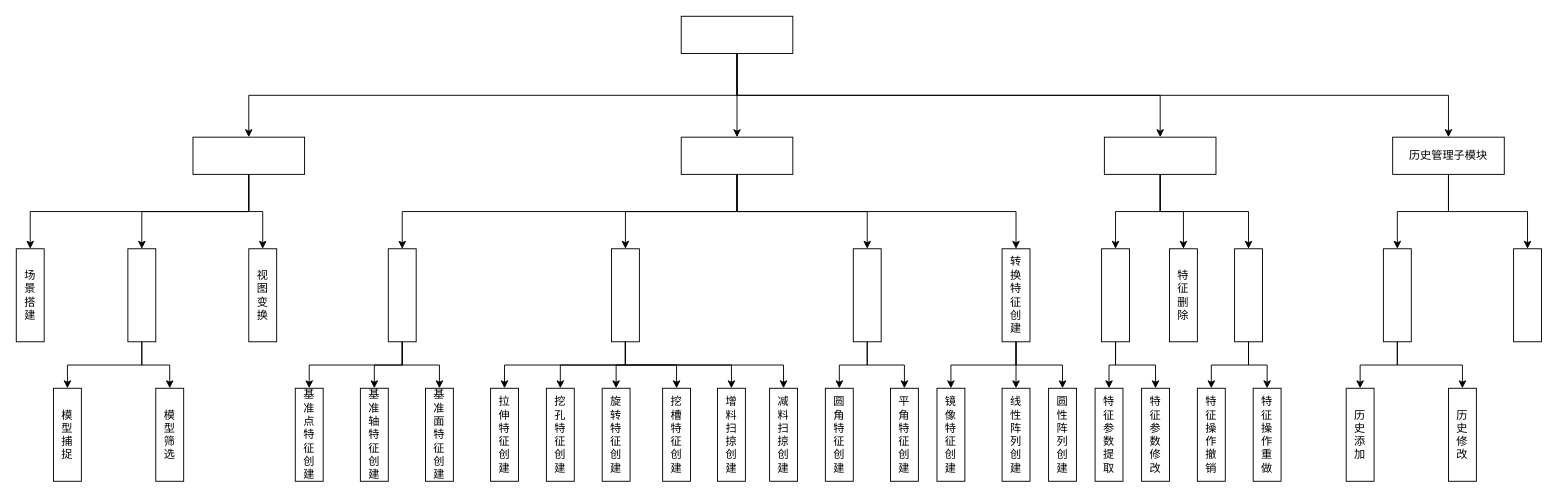
Image size: 1558x498. Some labels were removed from this diagram. The box of each missing label's shape, as (x1, y1, x2, y2) in pixels:
修 饰 特 征 创 建: (852, 248, 881, 342)
历 史 更 新: (1382, 248, 1411, 342)
历 史 查 看: (1513, 248, 1541, 342)
参 数 编 辑: (1101, 248, 1129, 342)
参数化特征造型模块: (680, 15, 793, 53)
场景管理子模块: (192, 136, 305, 174)
基 体 特 征 创 建: (611, 248, 639, 342)
基 准 特 征 创 建: (387, 248, 416, 342)
撤 销 / 重 做: (1234, 248, 1262, 342)
模 型 交 互: (127, 248, 156, 342)
特征创建子模块: (680, 136, 793, 174)
特征编辑子模块: (1103, 136, 1216, 174)
